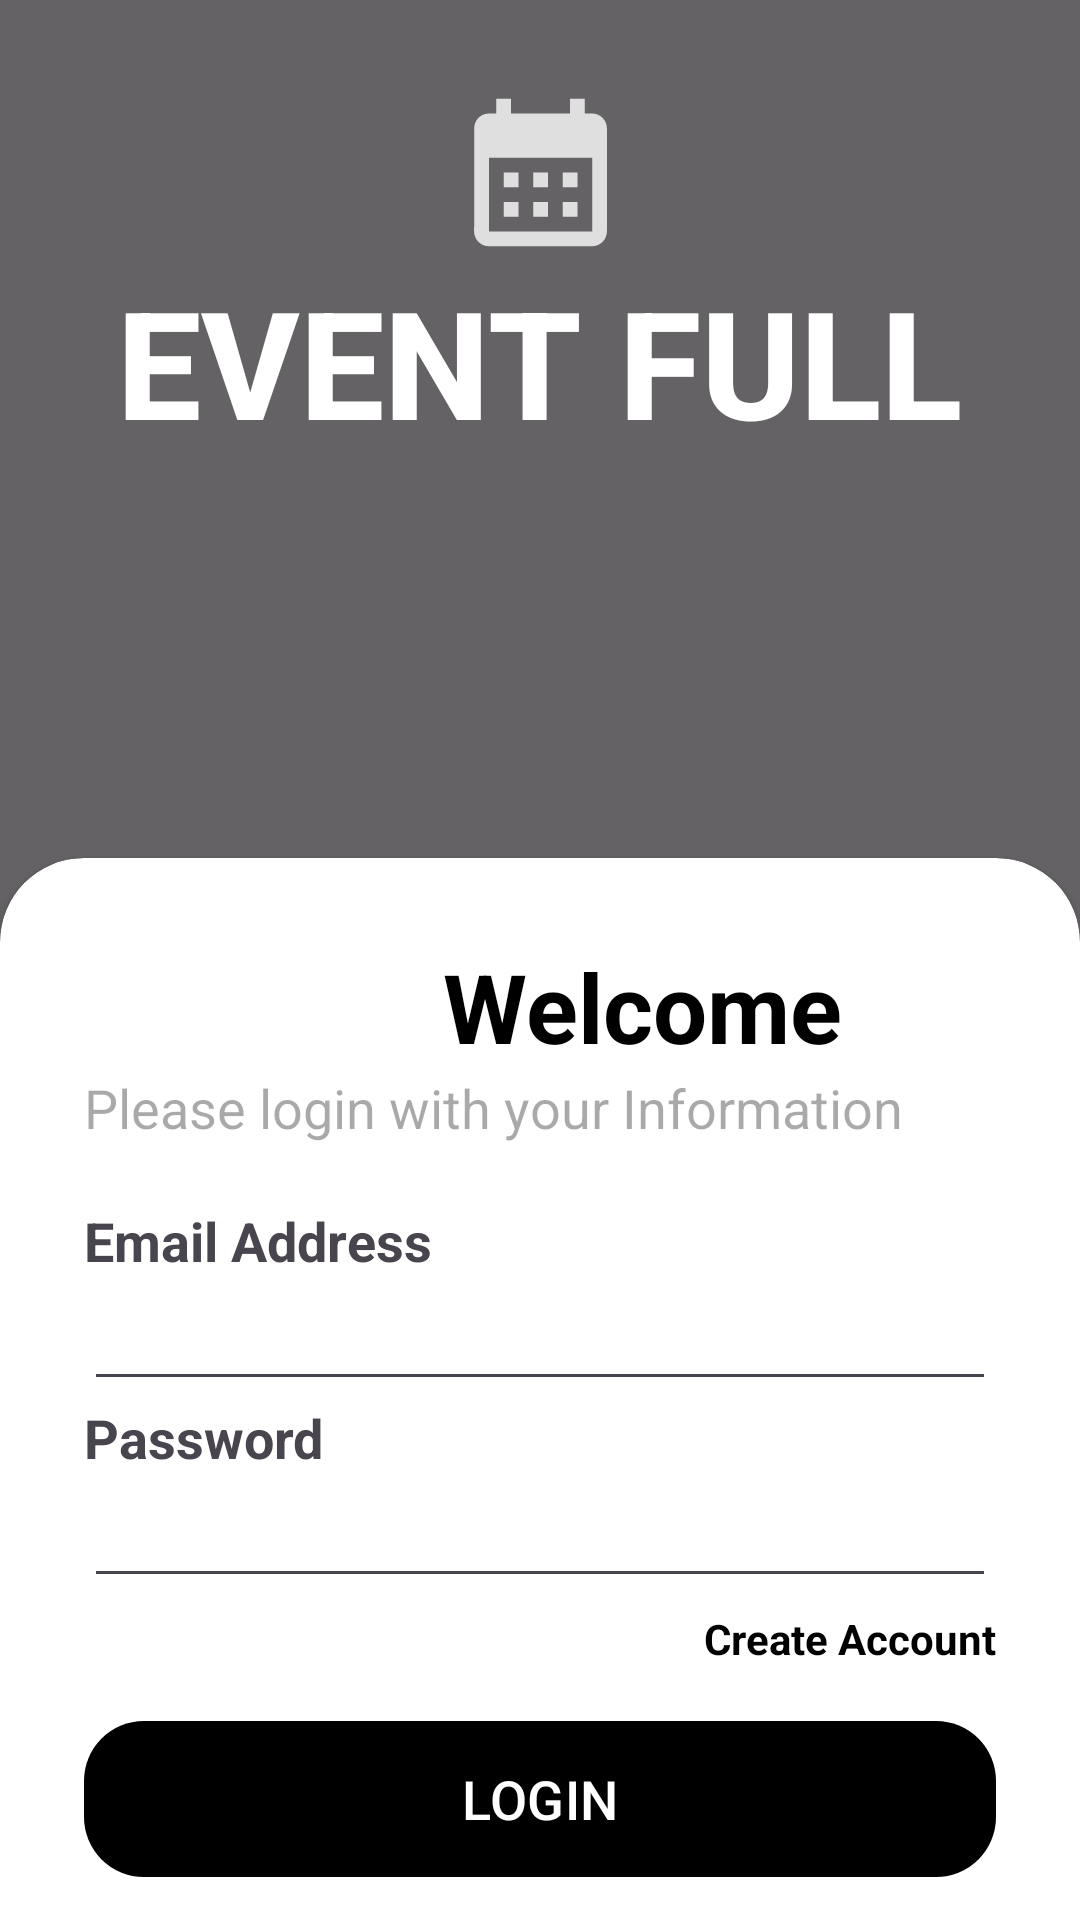

Icon click points for this 1080px×1920px phone screenshot, format [x,y]:
calendar month: [540,172]
